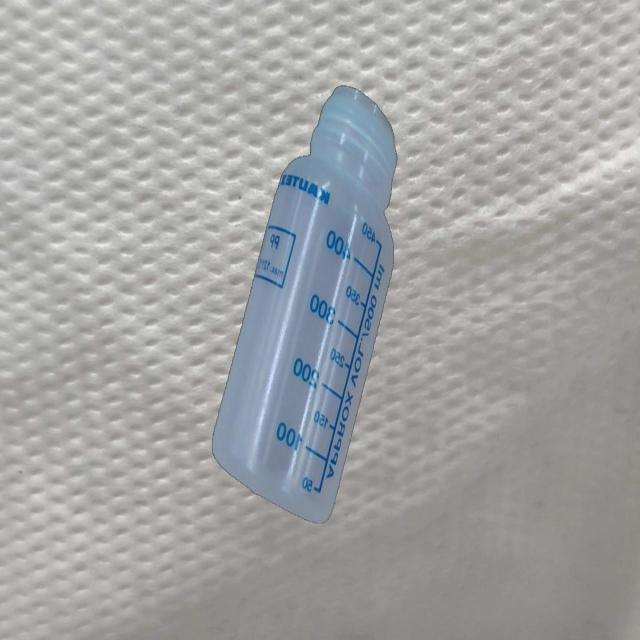bottle: (211, 81, 398, 529)
